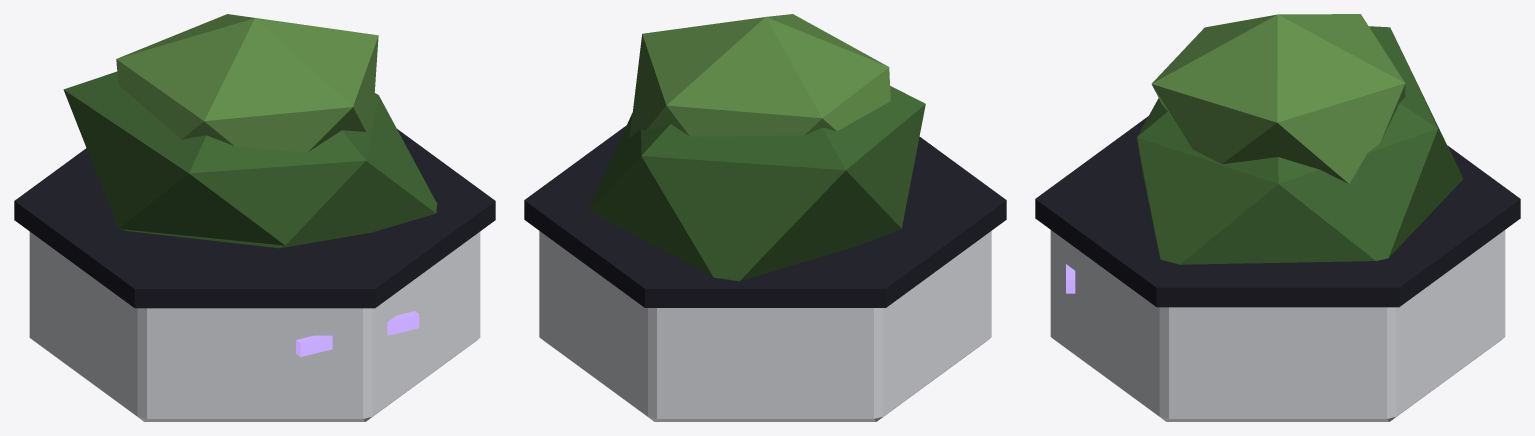
Rendered from city_planter.glb.
3 views of the same model, side by side, from view 1: azimuth 30°, elevation 25°; view 2: azimuth 150°, elevation 25°; view 3: azimuth 270°, elevation 25° (orthographic).
Visible parts, largest first — view 1: city_planter; view 2: city_planter; view 3: city_planter.
Boxes of the visible parts, x1,y1,x2,y2 form: city_planter: (14,14,495,421); city_planter: (524,14,1006,421); city_planter: (1035,14,1520,421).
Size of the model in its own units: 2.74 by 2.34 by 3.16.
